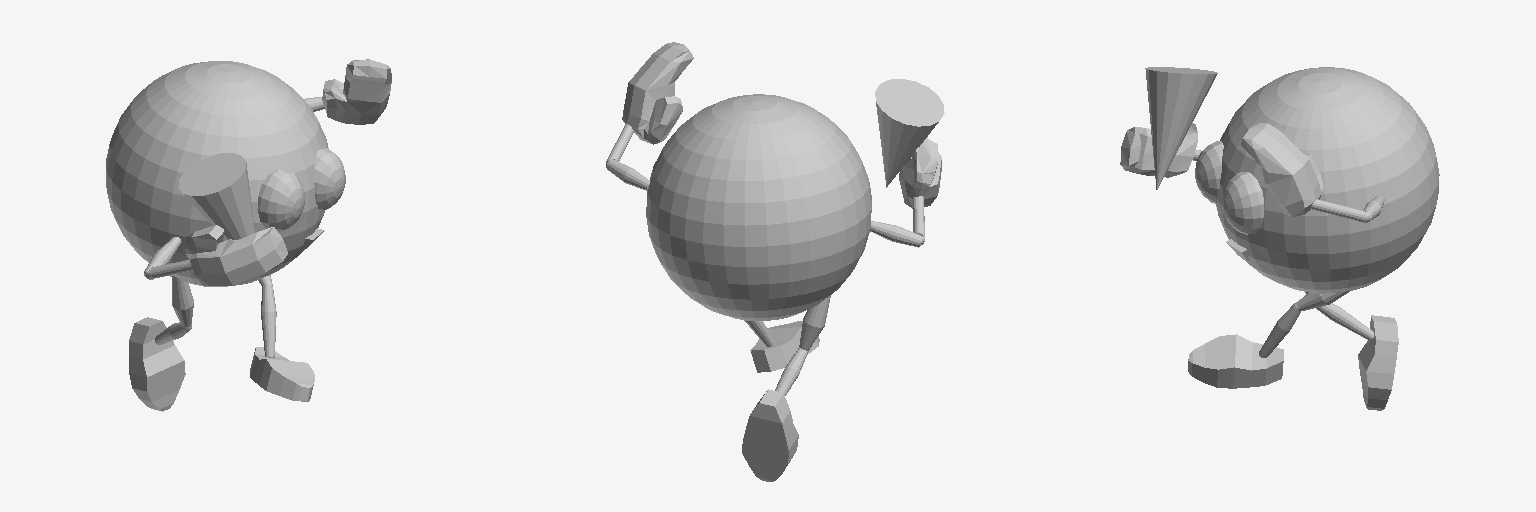
Rendered from jump_000012.obj.
The picture shows the model from 3 angles: view 1: azimuth 30°, elevation 25°; view 2: azimuth 150°, elevation 25°; view 3: azimuth 270°, elevation 25°; orthographic projection.
Parts seen in each view (by area): view 1: Rusko_Sphere; view 2: Rusko_Sphere; view 3: Rusko_Sphere.
Boxes of the visible parts, x1,y1,x2,y2 form: Rusko_Sphere: [106, 59, 391, 411]; Rusko_Sphere: [606, 42, 944, 481]; Rusko_Sphere: [1120, 67, 1439, 410].
Bounding box in the file's own units: 5.43 × 6.89 × 5.62.